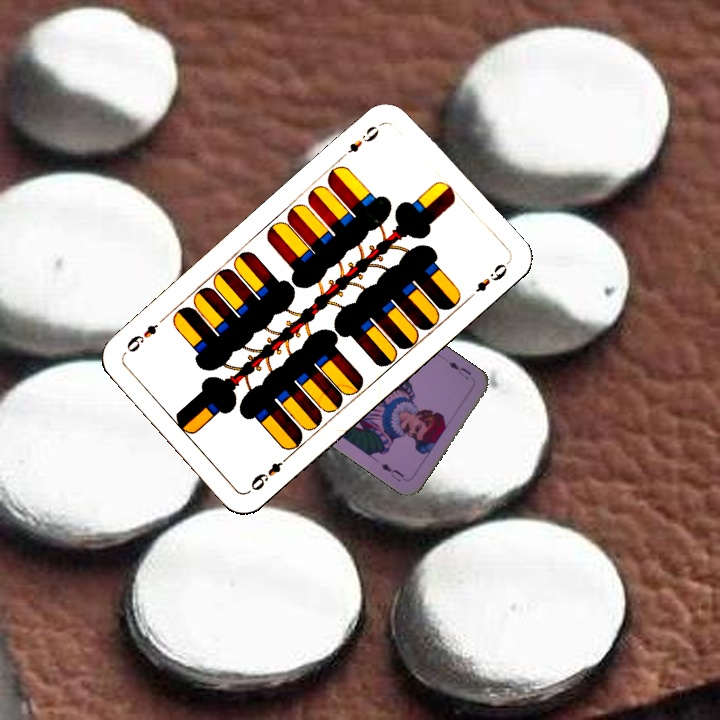E9: (337, 118, 386, 161), (246, 450, 293, 494)
EU: (445, 357, 474, 382)
